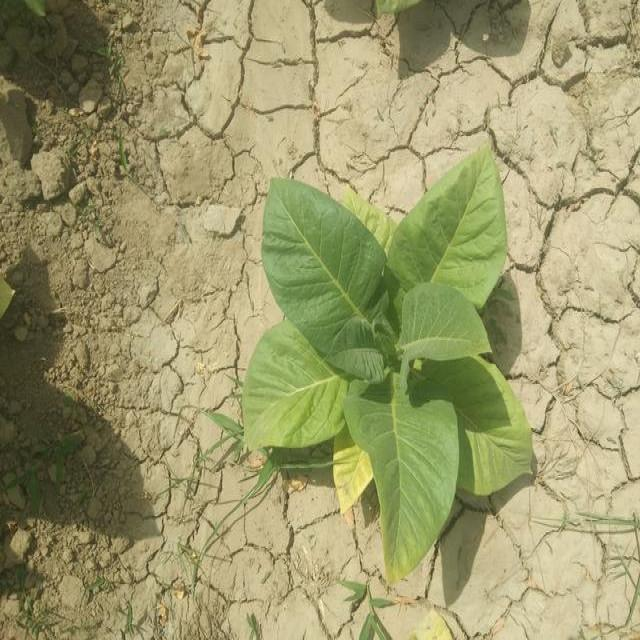crop: (238, 148, 532, 590)
